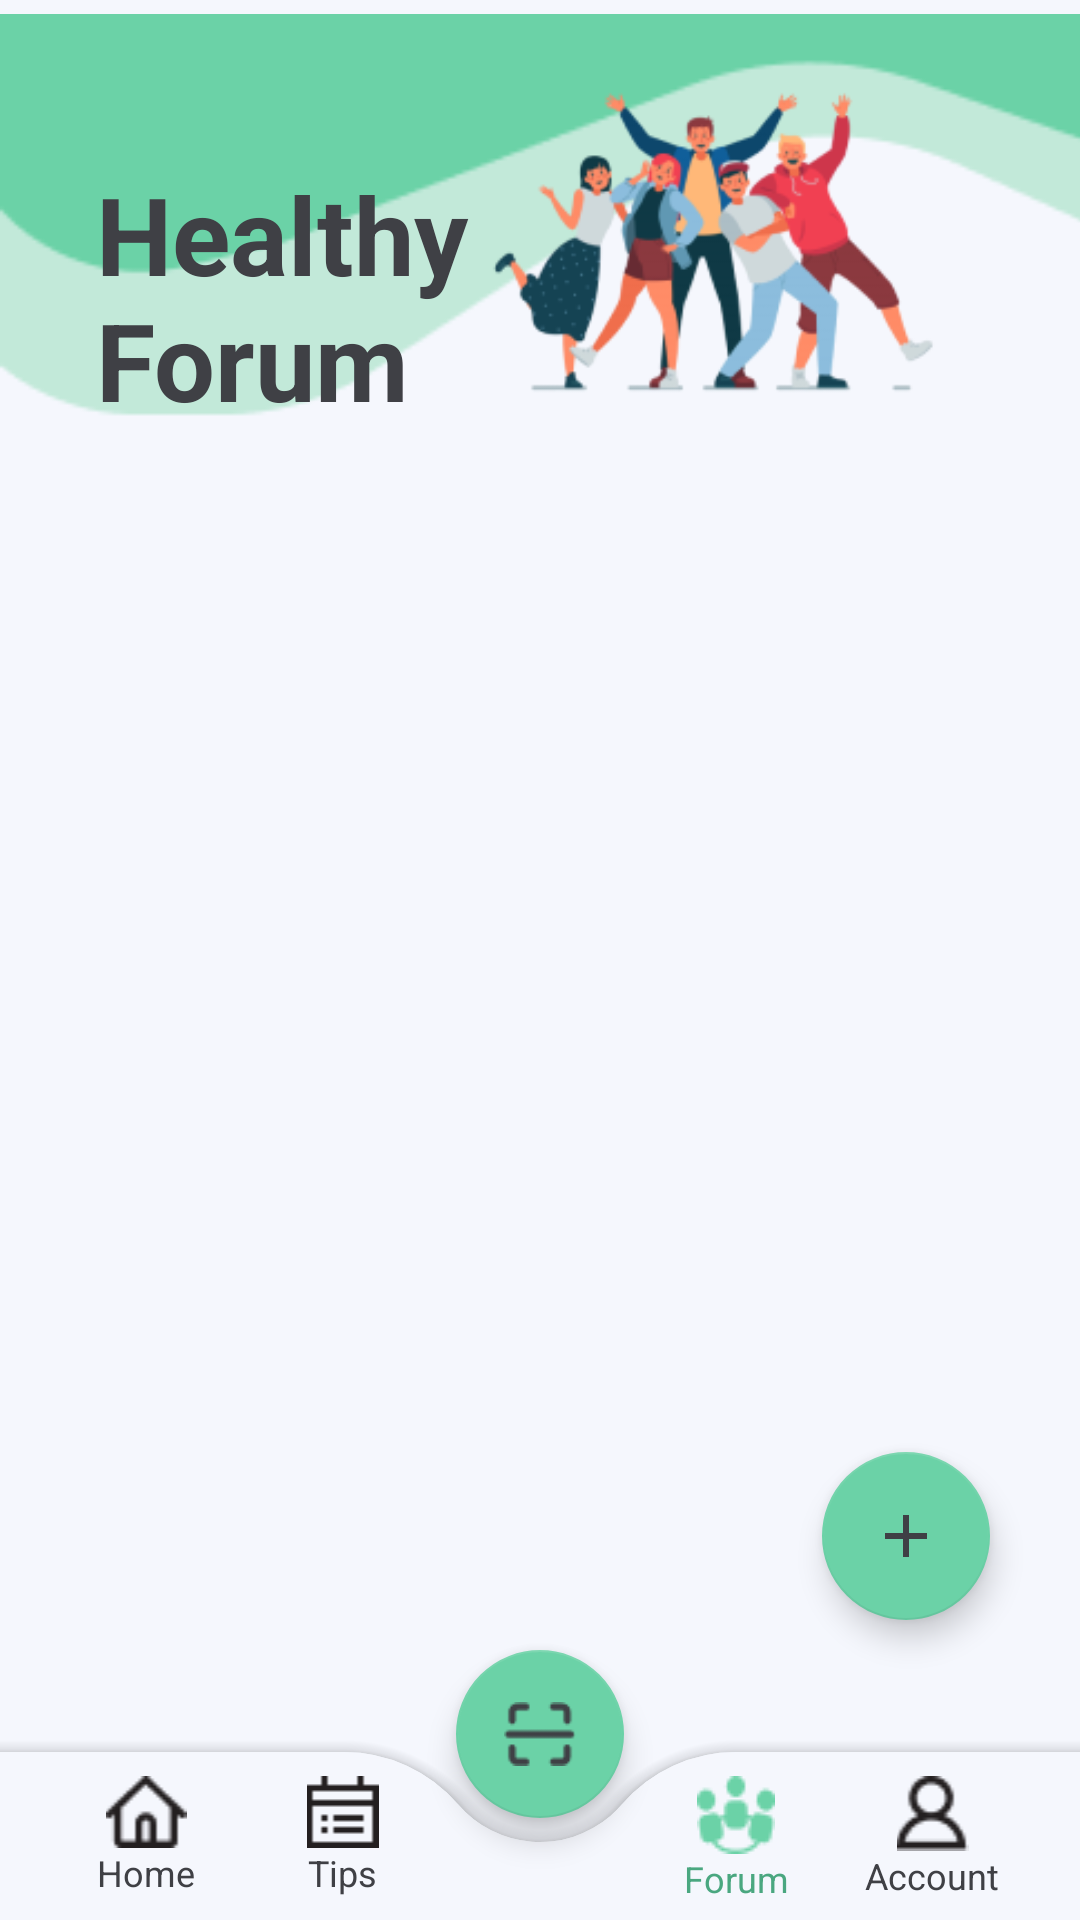

Locate icon controls on the screen. Image size 1080 x 1920, boxes as [left=x1, top=y1, right=x2, bottom=y2].
add: [left=822, top=1452, right=990, bottom=1620]
community click: [left=697, top=1776, right=775, bottom=1854]
ini scan button: [left=456, top=1668, right=624, bottom=1836]
